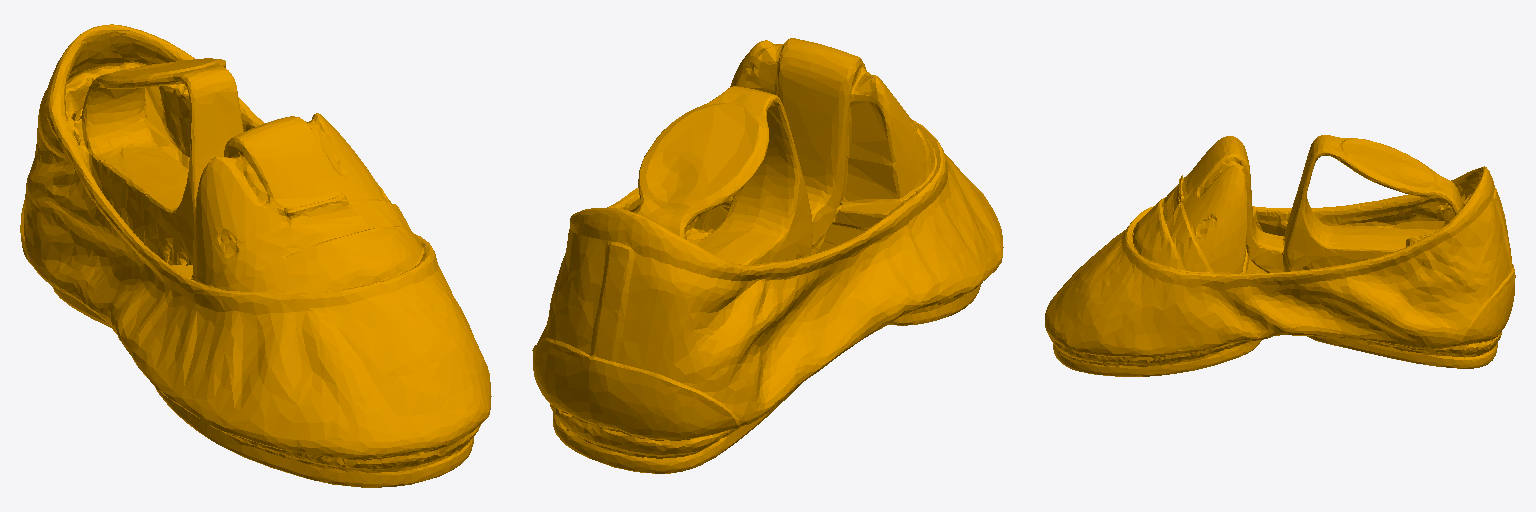
URDF robot description (1tj7jndn):
<?xml version='1.0'?>

<robot name="1tj7jndn">
    <static>false</static>
    <link name="link">
        <inertial>
            <mass value="0.07743743274453893"/>
            <inertia ixx="0.00011856714175712708" ixy="1.5351884452672699e-06" ixz="2.5297530513114016e-08"
                     iyy="2.8419262100357263e-05" iyz="1.6486516857885068e-07" izz="0.00011861474464268089"/>
        </inertial>
        <collision name="collision">
            <geometry>
                <mesh filename="package://miscnet/train/1tj7jndn/collision_model_vhacd.obj"/>
            </geometry>
        </collision>
        <visual name="visual">
            <geometry>
                <mesh filename="package://miscnet/train/1tj7jndn/visual_model.obj"/>
            </geometry>
        </visual>
    </link>
</robot>

--- Facts derived from the render (not from the file) ---
The picture shows the robot from 3 angles, left to right: view 1: azimuth 30°, elevation 25°; view 2: azimuth 150°, elevation 25°; view 3: azimuth 270°, elevation 25°; orthographic projection.
Robot: 1tj7jndn — 1 links, 0 joints (none); root link link; default pose: all joints at 0.
Visible links, largest first — view 1: link; view 2: link; view 3: link.
Link boxes in pixels (x1=…): link: x1=20, y1=24, x2=491, y2=487; link: x1=532, y1=38, x2=1003, y2=473; link: x1=1045, y1=135, x2=1515, y2=376.
Size in the robot's own frame: 0.0647 by 0.1356 by 0.0649 metres.
1 mesh visuals loaded from 1 distinct referenced files (1 OBJ).
